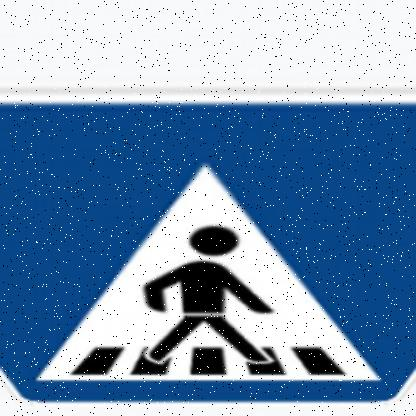Pedestrian Crossing: (1, 88, 416, 411)
